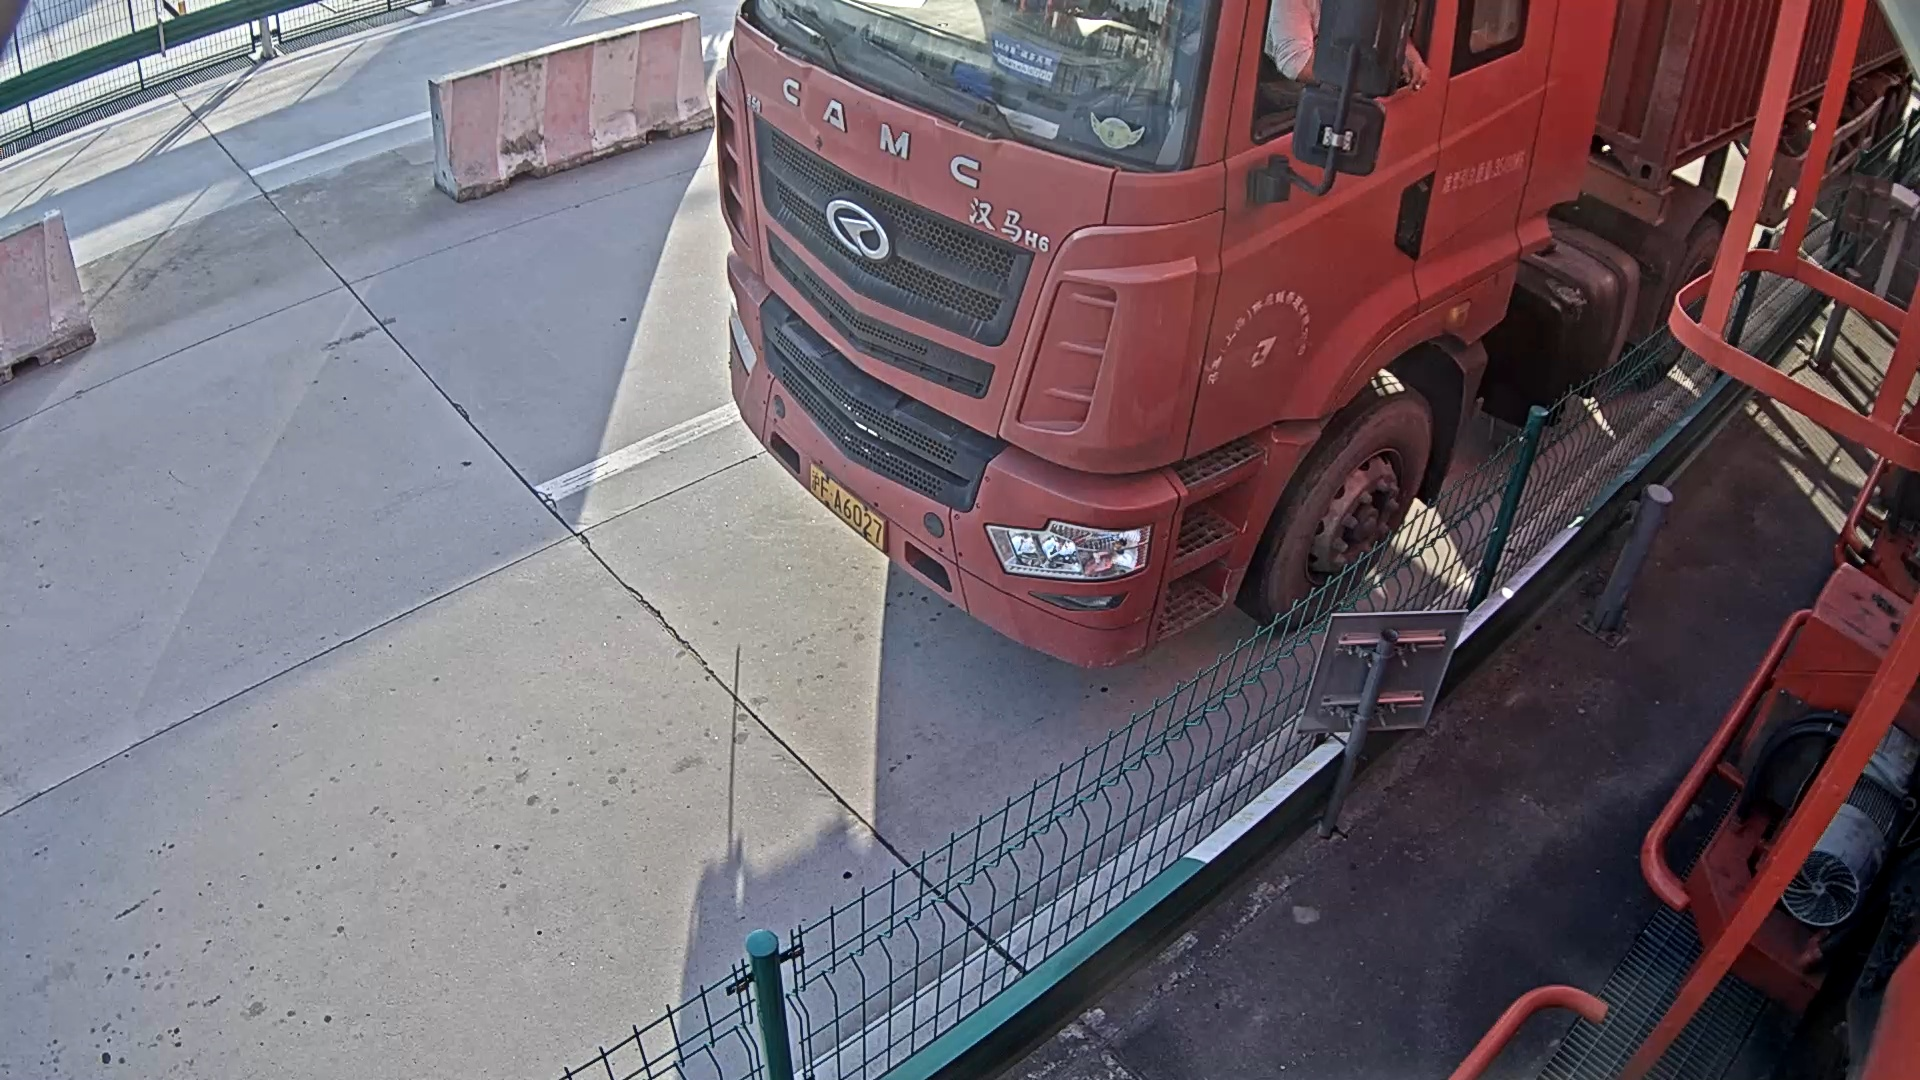head: (708, 9, 1301, 706)
plate: (799, 452, 909, 555)
